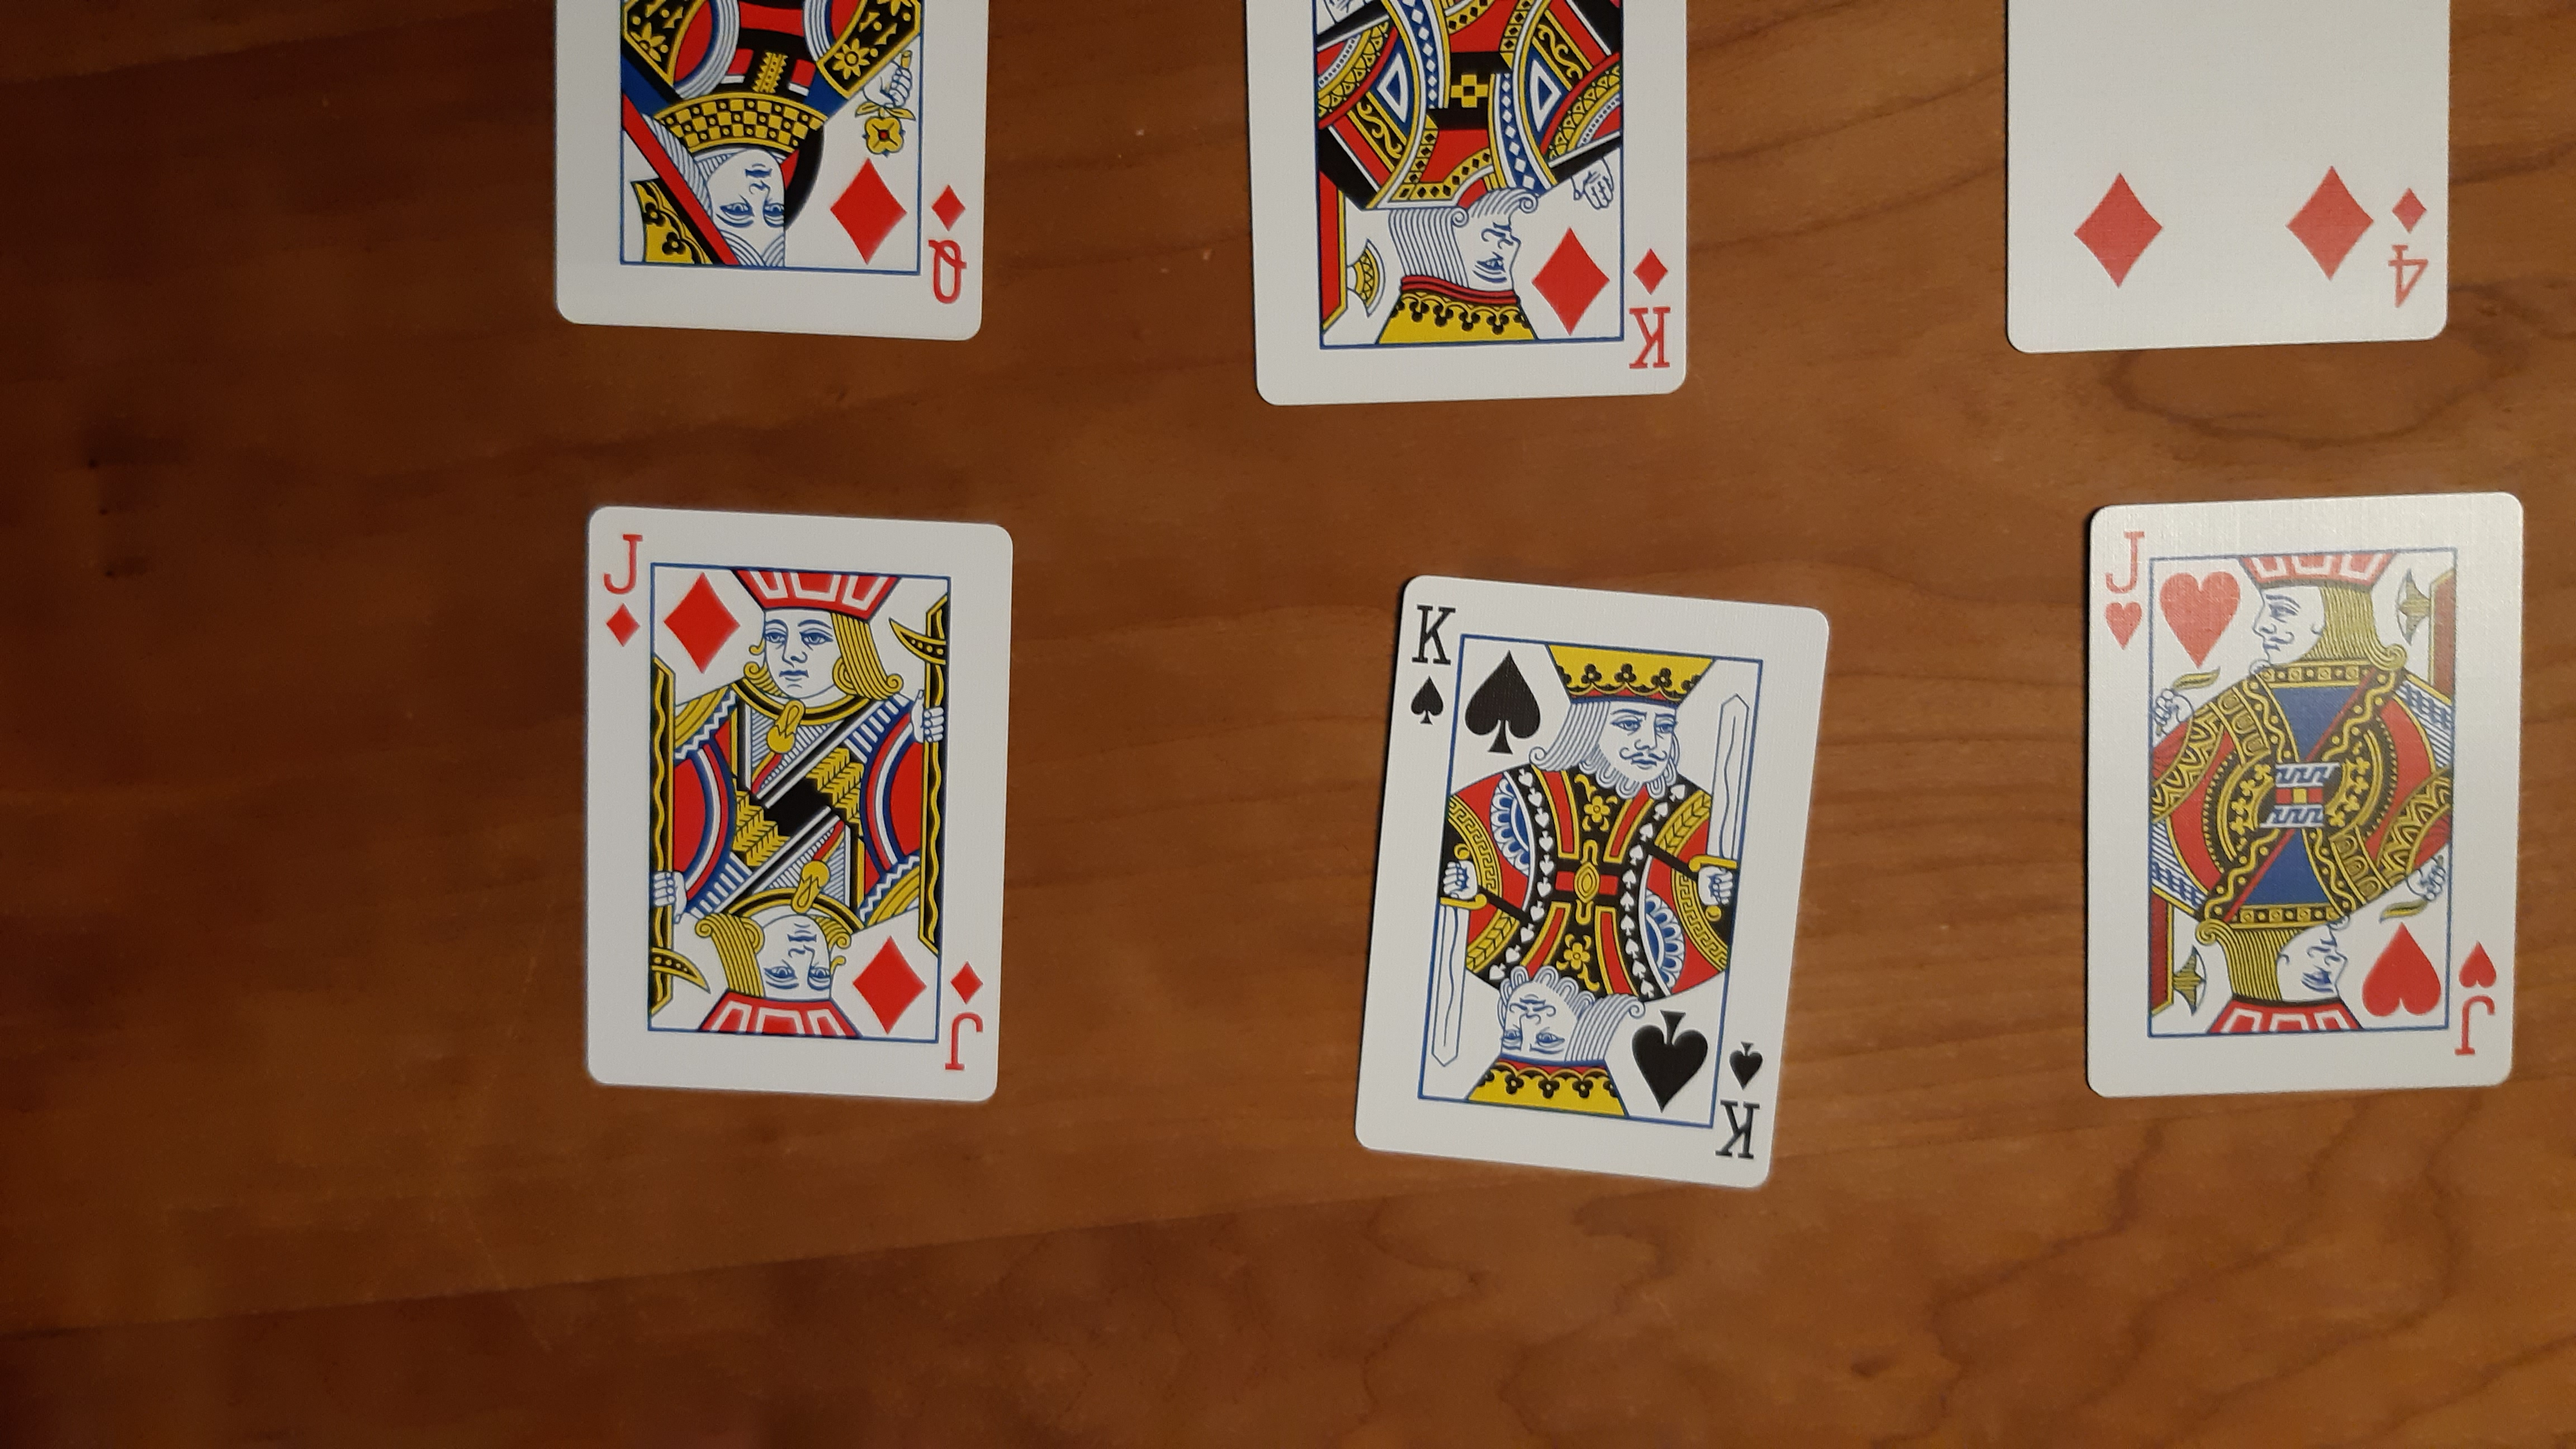Black_Spade_King: (1399, 593, 1458, 736), (1716, 1031, 1767, 1168)
Red_Diamond_4: (2383, 177, 2440, 324)
Red_Diamond_Jack: (594, 522, 648, 653), (943, 952, 989, 1088)
Red_Diamond_King: (1624, 237, 1679, 386)
Red_Diamond_Queen: (918, 173, 971, 306)
Red_Heart_Jack: (2097, 522, 2148, 658), (2447, 938, 2500, 1062)
